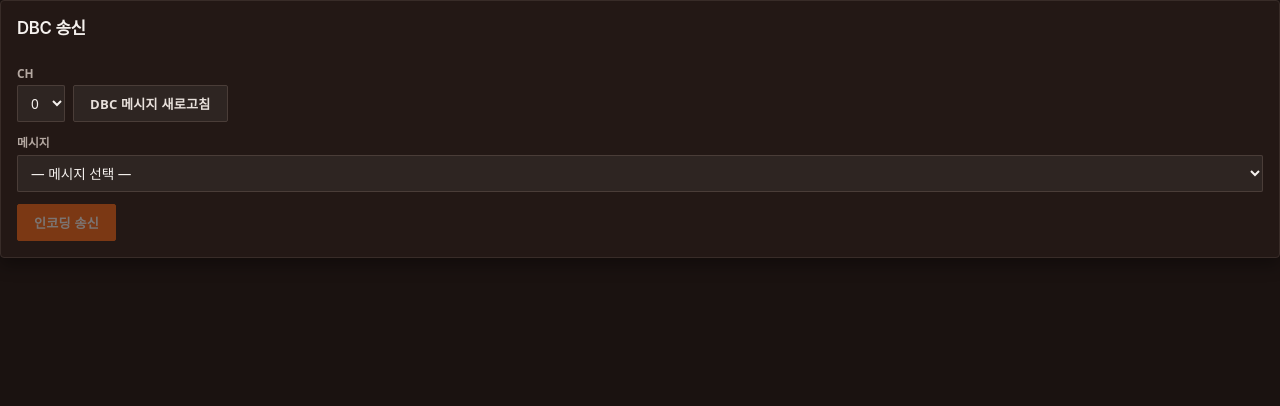
Test: DbcTxPanel › 메시지를 선택하면 모든 신호 입력이 기본값(minimum)으로 prefill 되어 렌더된다
Select "EngineData (0x100)" in the dropdown labelled "메시지" at x=640, y=173, box [17, 155, 1263, 192]
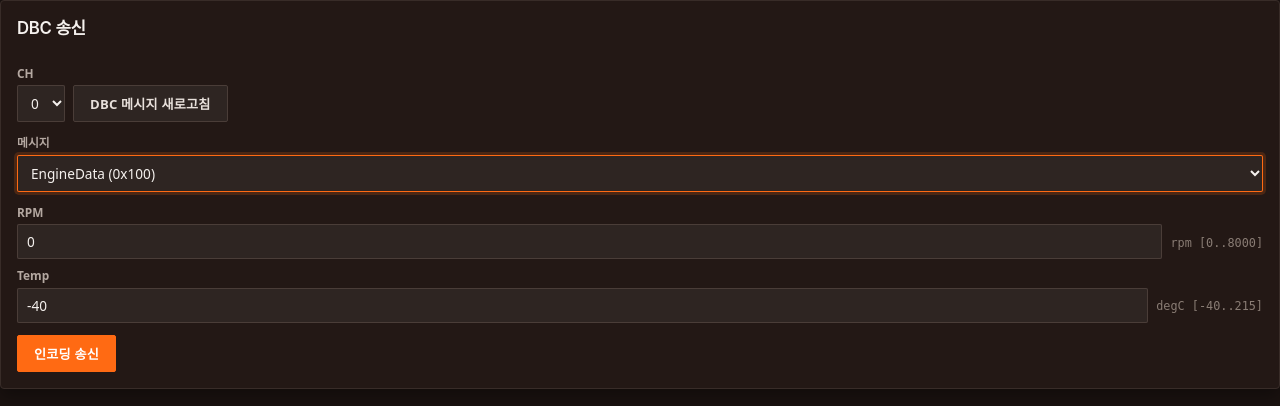
expect the number field labelled "RPM" holds "0": met, box [17, 224, 1162, 259]
expect the number field labelled "Temp" holds "-40": met, box [17, 288, 1148, 323]
